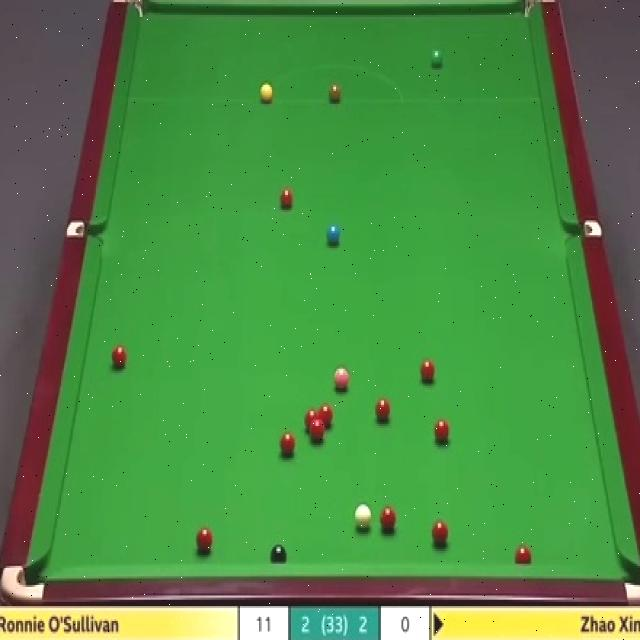black-ball: (270, 545, 287, 564)
blue-ball: (326, 222, 340, 248)
brown-ball: (326, 81, 342, 105)
green-ball: (428, 49, 444, 69)
pink-ball: (334, 363, 350, 391)
red-ball: (109, 343, 128, 372), (418, 358, 436, 388), (431, 520, 449, 548), (196, 526, 213, 554), (379, 505, 396, 533), (278, 185, 296, 210), (374, 397, 390, 424), (434, 418, 450, 444), (319, 404, 334, 430), (515, 543, 532, 565), (280, 432, 295, 456), (310, 422, 324, 443), (305, 409, 318, 430)
white-ball: (352, 499, 372, 534)
yellow-ball: (259, 81, 273, 102)
